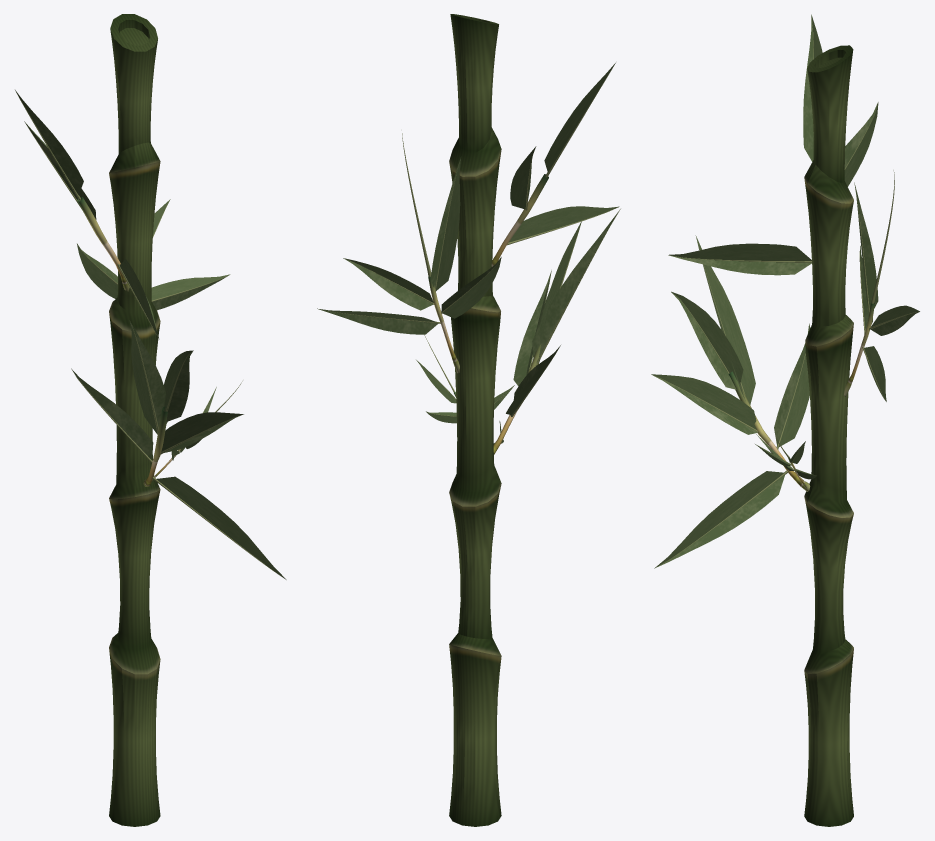
File: Bambus 1.fbx
The picture shows the model from 3 angles, left to right: view 1: azimuth 30°, elevation 25°; view 2: azimuth 150°, elevation 25°; view 3: azimuth 270°, elevation 25°; orthographic projection. The views are drawn at different scales.
Parts seen in each view (by area): view 1: Cylinder.031, BambusSmallBranch3.005; view 2: Cylinder.031, BambusSmallBranch3.005; view 3: Cylinder.031, BambusSmallBranch3.005.
Part boxes in pixels (<box>): Cylinder.031: <box>109,14,160,826</box>; BambusSmallBranch3.005: <box>15,90,286,579</box>; Cylinder.031: <box>449,14,501,826</box>; BambusSmallBranch3.005: <box>317,63,620,454</box>; Cylinder.031: <box>804,45,853,826</box>; BambusSmallBranch3.005: <box>651,14,919,568</box>.
Size of the model in its own units: 0.8171 by 2.42 by 0.7717.
5 materials, 4 textured.
